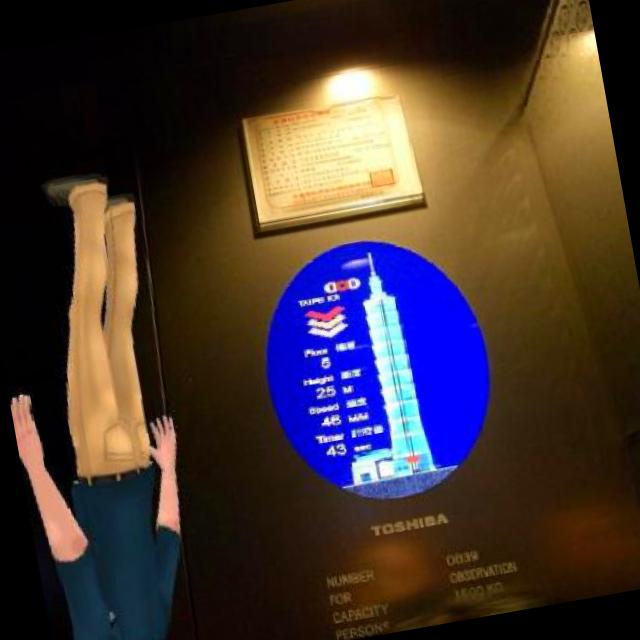Person: (0, 155, 223, 640)
